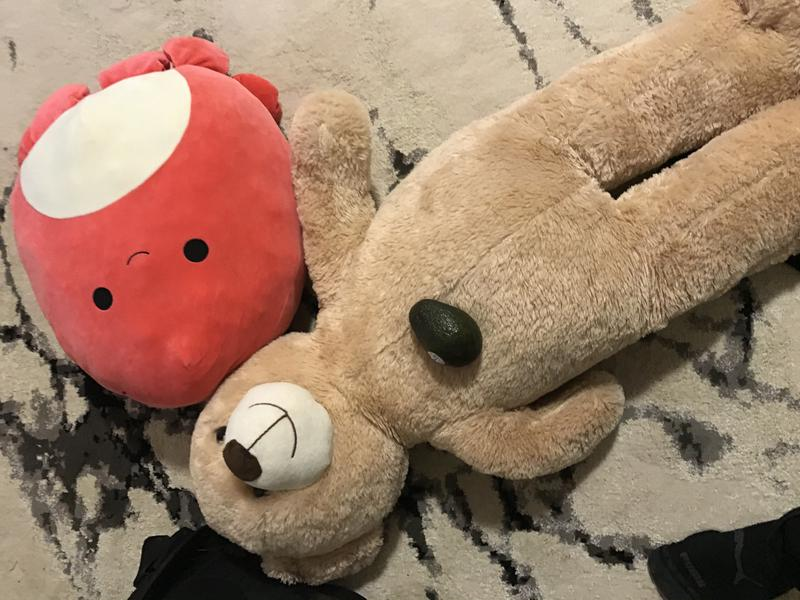avacado: (404, 296, 493, 377)
